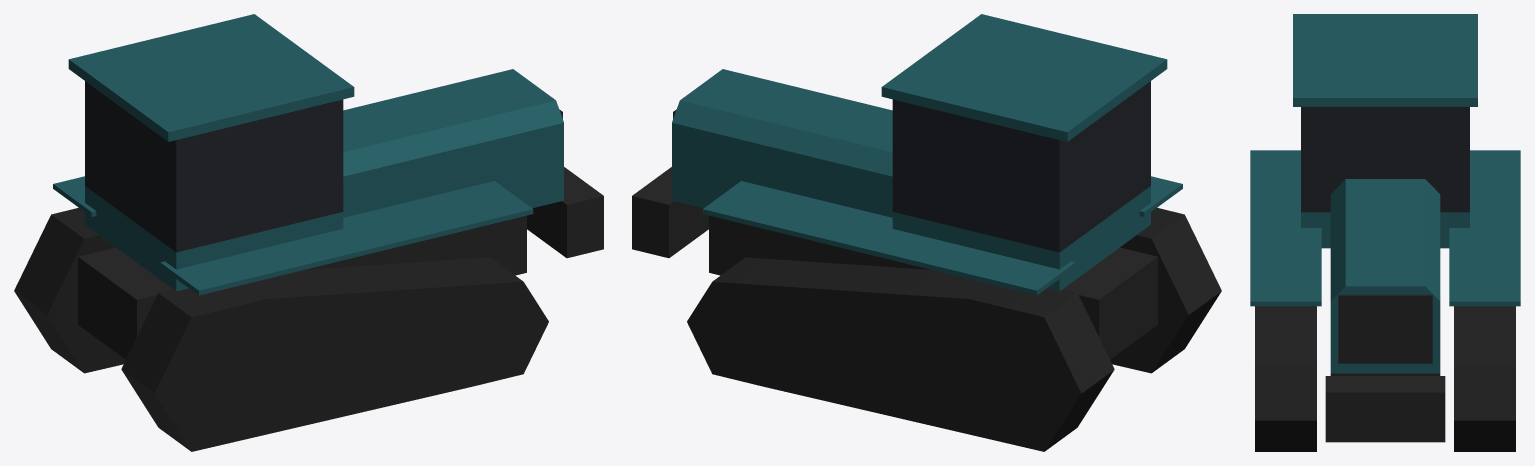
File: SM_Prop_farm_tractortrack_0_LOD2.glb
The picture shows the model from 3 angles, left to right: view 1: azimuth 30°, elevation 25°; view 2: azimuth 150°, elevation 25°; view 3: azimuth 270°, elevation 25°; orthographic projection. The views are drawn at different scales.
Parts seen in each view (by area): view 1: SM_Prop_farm_tractortrack_0_LOD2; view 2: SM_Prop_farm_tractortrack_0_LOD2; view 3: SM_Prop_farm_tractortrack_0_LOD2.
Boxes of the visible parts, x1,y1,x2,y2 form: SM_Prop_farm_tractortrack_0_LOD2: (14, 14, 603, 451); SM_Prop_farm_tractortrack_0_LOD2: (632, 14, 1221, 451); SM_Prop_farm_tractortrack_0_LOD2: (1250, 14, 1520, 451).
Bounding box in the file's own units: 5.25 × 3.18 × 2.72.
